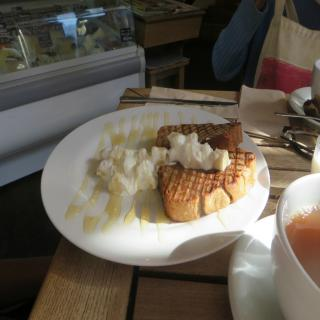Waffle: (156, 136, 259, 224), (155, 123, 243, 152)
